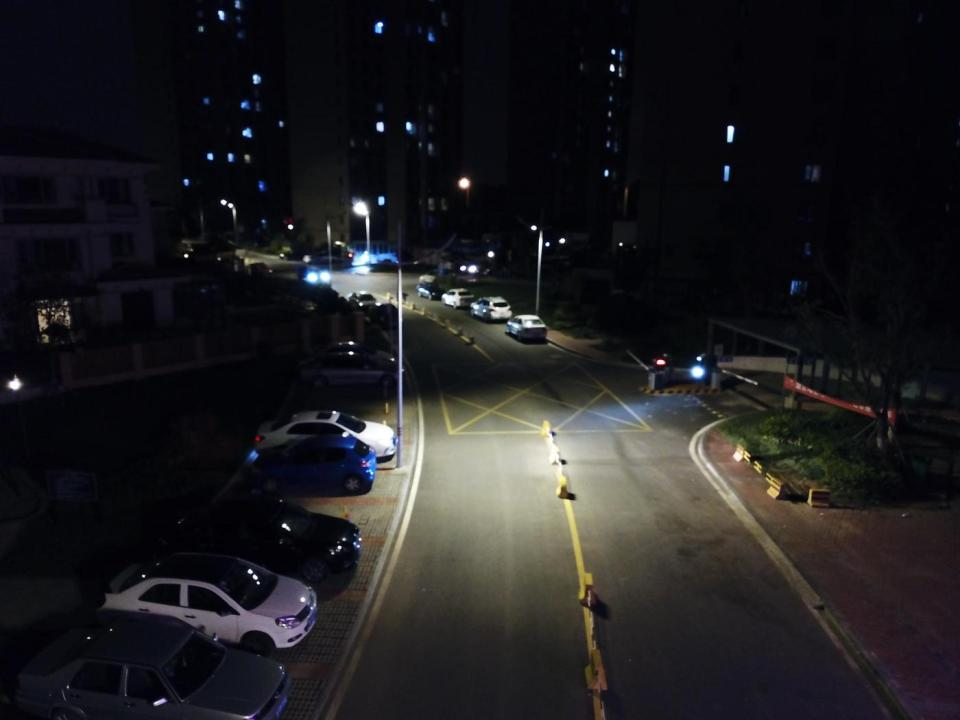car: (12, 620, 294, 720), (95, 556, 320, 660), (170, 496, 366, 584), (245, 436, 376, 498), (254, 416, 397, 468), (299, 353, 409, 394), (300, 342, 403, 380), (468, 292, 513, 322), (505, 313, 550, 340), (299, 262, 333, 288), (372, 302, 404, 328), (441, 285, 474, 309), (302, 249, 341, 269), (419, 264, 457, 284), (414, 278, 447, 301), (246, 258, 277, 282), (348, 289, 375, 313)
